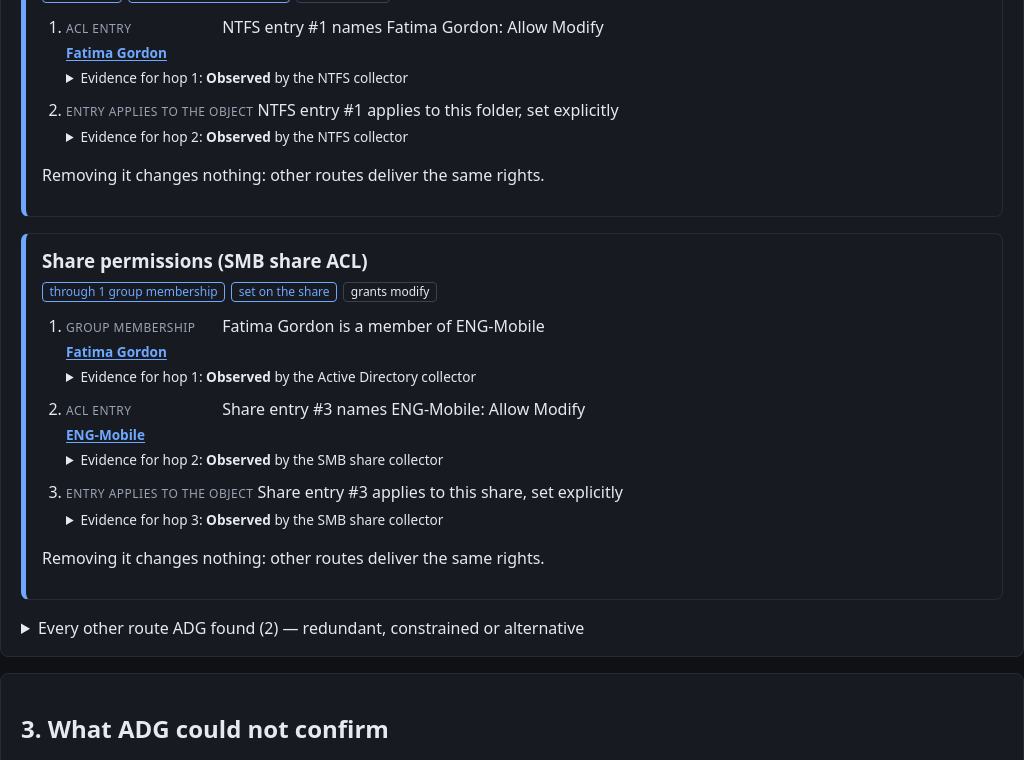
4. the evidence behind a hop › opens to the collector, the scans and the stored row
(page scrolled)
Click the heading "Evidence for hop 1" at (278, 377), box [80,367,476,386]
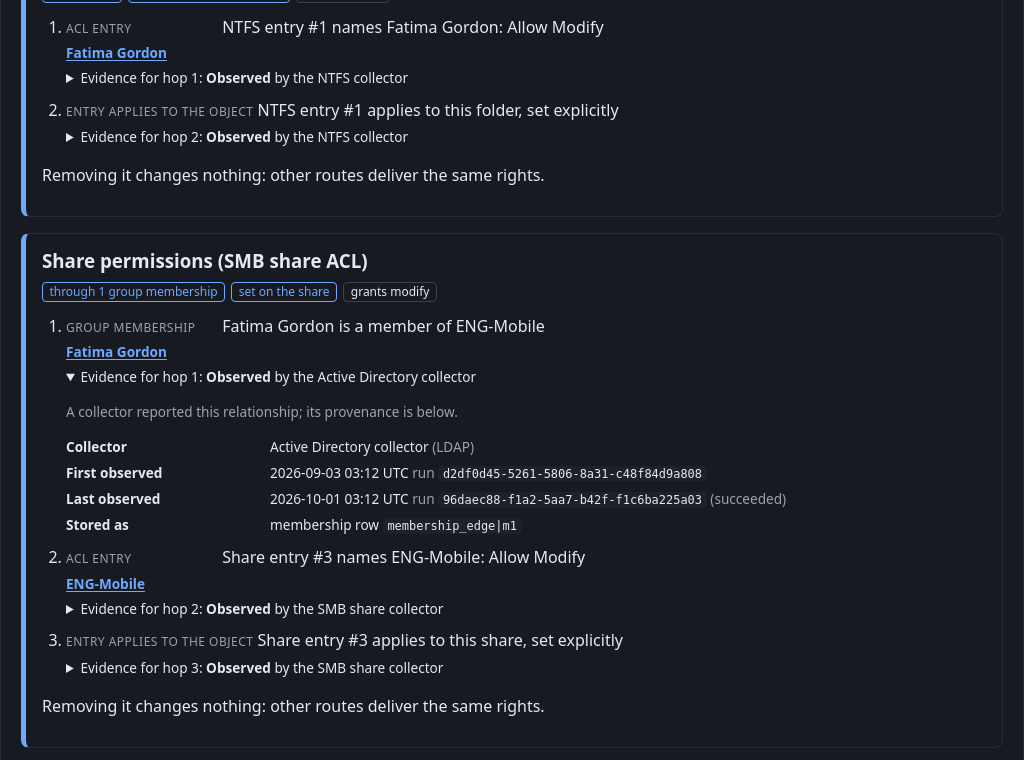
Now the text "First observed" is shown, box [66,463,162,482]
Now the text "2026-09-03 03:12 UTC" is shown, box [270,463,409,482]
Now the text "2026-10-01 03:12 UTC" is shown, box [270,489,409,508]
